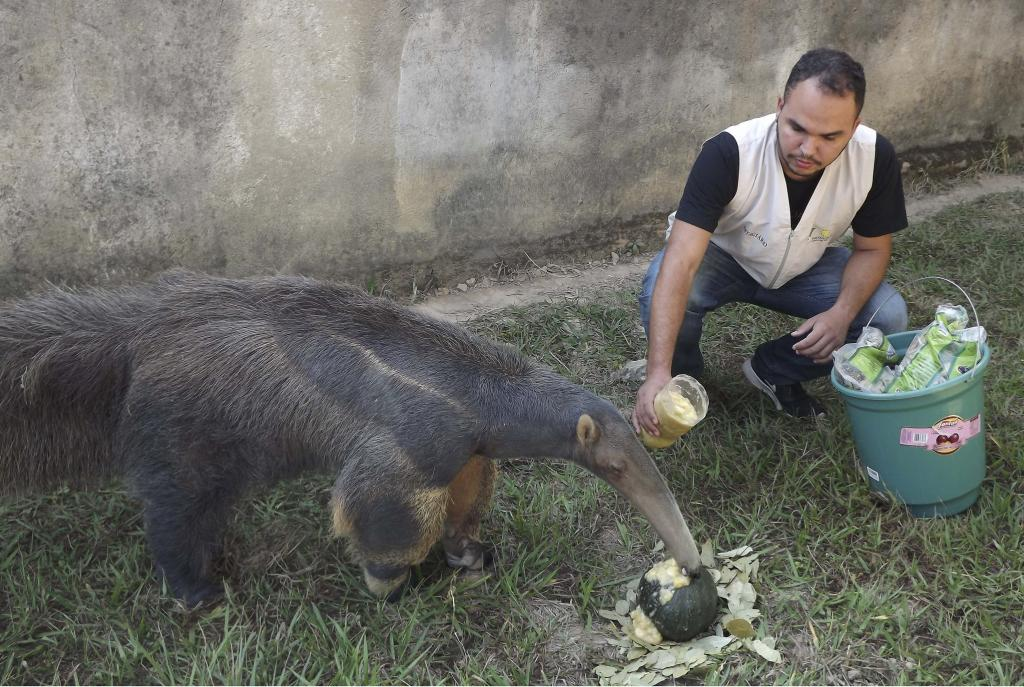TamanduaBandeira: (3, 264, 707, 611)
